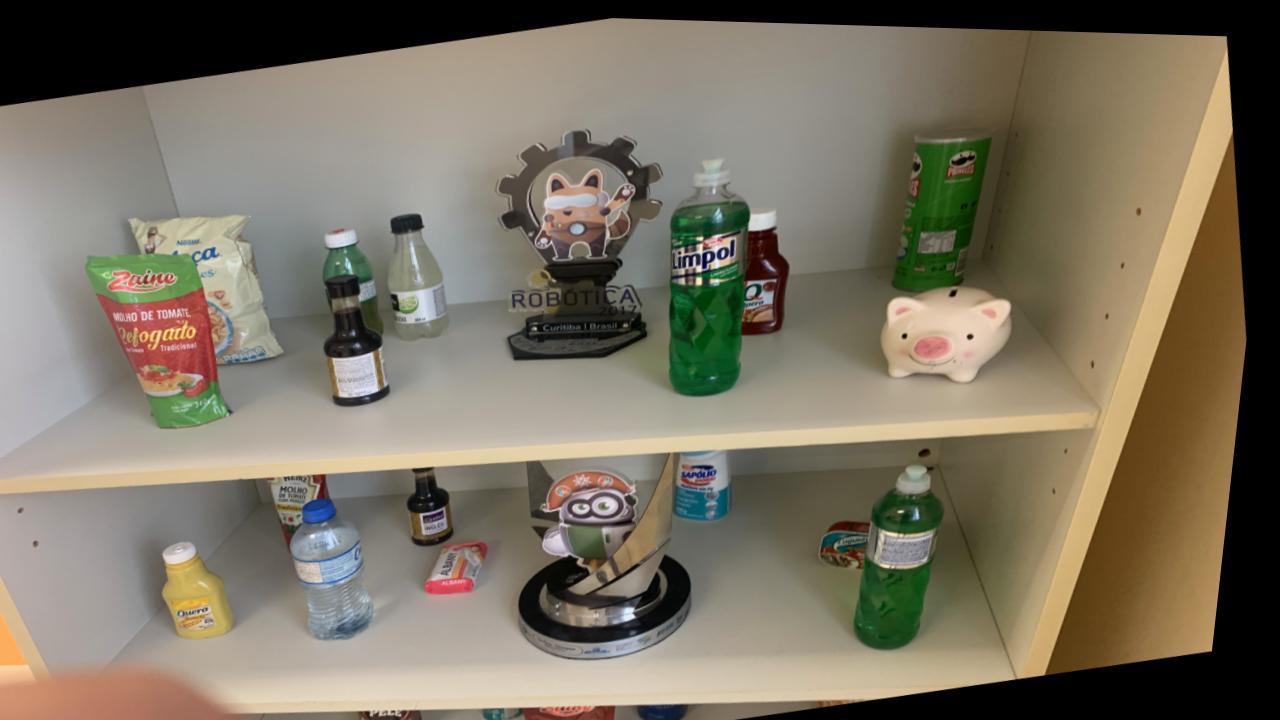Cleaner-Cleanup_Items: (685, 445, 743, 517)
Coffee-Pantry_Items: (375, 706, 439, 720)
Detergent-Cleanup_Items: (674, 155, 754, 391), (867, 458, 955, 643)
English_Sauce-Pantry_Items: (331, 270, 397, 404), (417, 464, 465, 542)
Flakes-Snacks: (134, 212, 290, 363)
Guarana-Drinks: (328, 225, 392, 331)
Ketchup-Pantry_Items: (748, 201, 794, 330)
Mustard-Pantry_Items: (176, 540, 248, 638)
Pig_Safe-Miscellaneous: (888, 279, 1019, 375)
Pringles-Snacks: (898, 124, 995, 285)
Soap-Cleanup_Items: (437, 538, 500, 591)
Soda-Drinks: (394, 210, 457, 338)
Tomato_Sauce-Pantry_Items: (92, 252, 239, 427), (278, 471, 340, 542), (539, 701, 631, 720)
Tonic-Drinks: (653, 698, 704, 720)
Trophy-Miscellaneous: (500, 127, 664, 356)
Tuna_Can-Pantry_Items: (831, 514, 882, 564)
Water_Bottle-Drinks: (301, 496, 387, 637)
